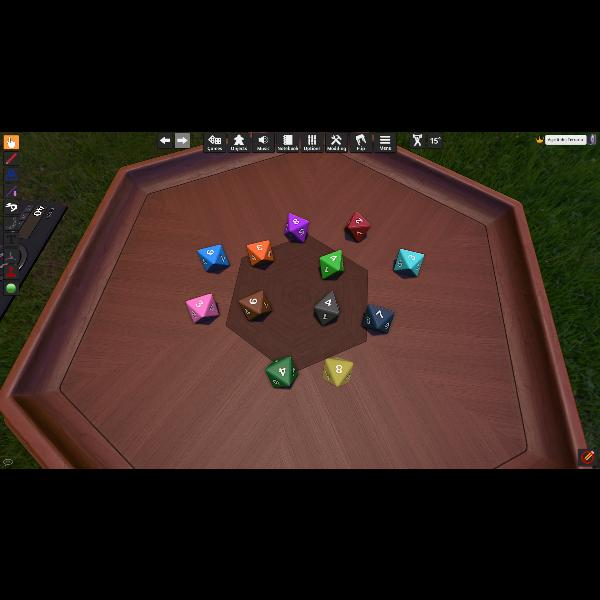d8: (264, 356, 298, 388), (238, 289, 270, 321), (362, 303, 394, 333), (186, 293, 218, 323), (314, 290, 340, 326), (322, 356, 352, 386), (197, 244, 229, 272), (394, 248, 423, 278), (344, 210, 370, 241), (246, 240, 274, 268), (284, 211, 308, 241), (319, 250, 343, 278)
